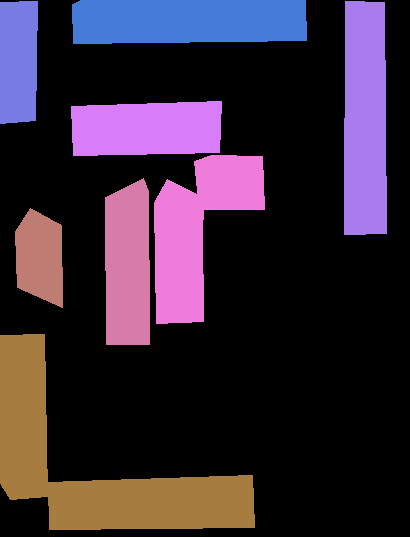parkingspot: (48, 475, 254, 529), (72, 0, 306, 43), (344, 1, 386, 234), (71, 101, 221, 155), (0, 334, 47, 499), (105, 178, 149, 344), (154, 179, 204, 323), (15, 208, 62, 307), (0, 1, 37, 123), (194, 155, 264, 209)
